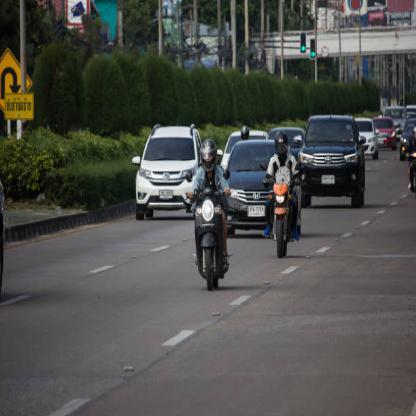Motorcycle: (175, 184, 234, 290), (259, 166, 297, 262)
